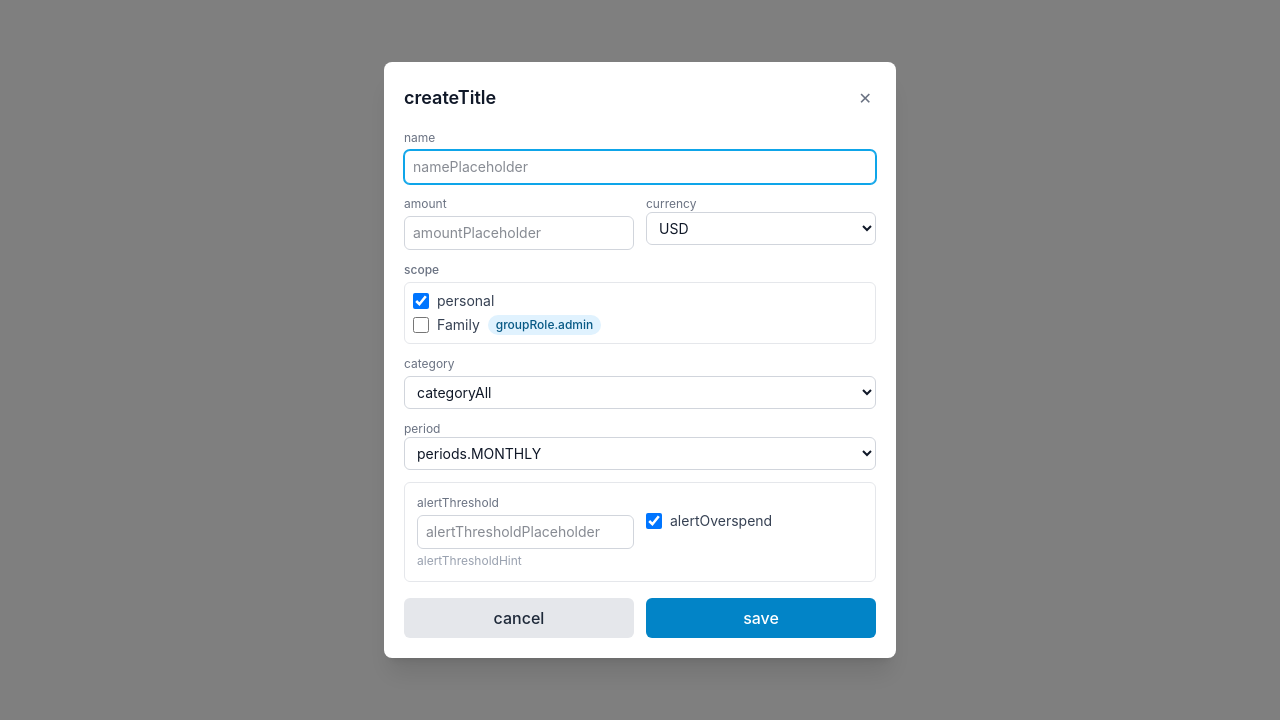
Test case: BudgetFormDialog › validation: name required
The width and height of the screenshot is (1280, 720).
Step 1. Type "10.00" into the field with test id "budget-form-amount" → (519, 233), box [404,216,634,250]
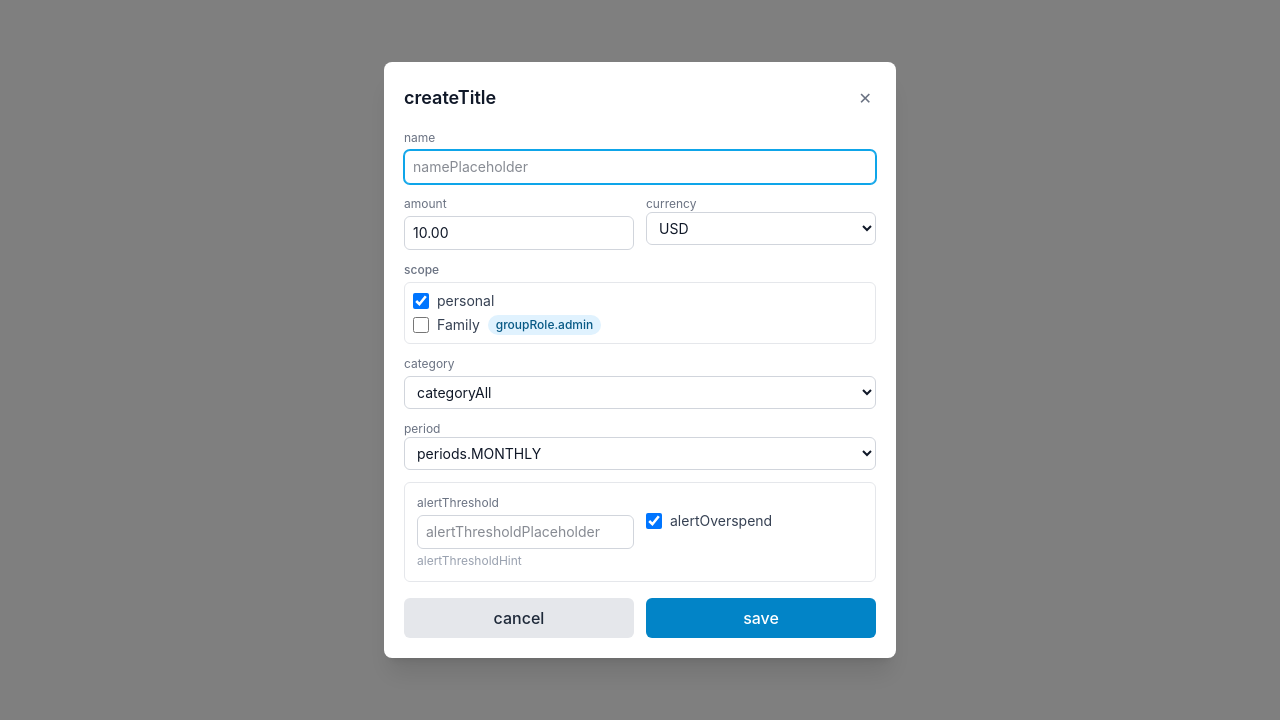
Step 2. Click the button with test id "budget-form-save" → (761, 618), box [646,598,876,638]
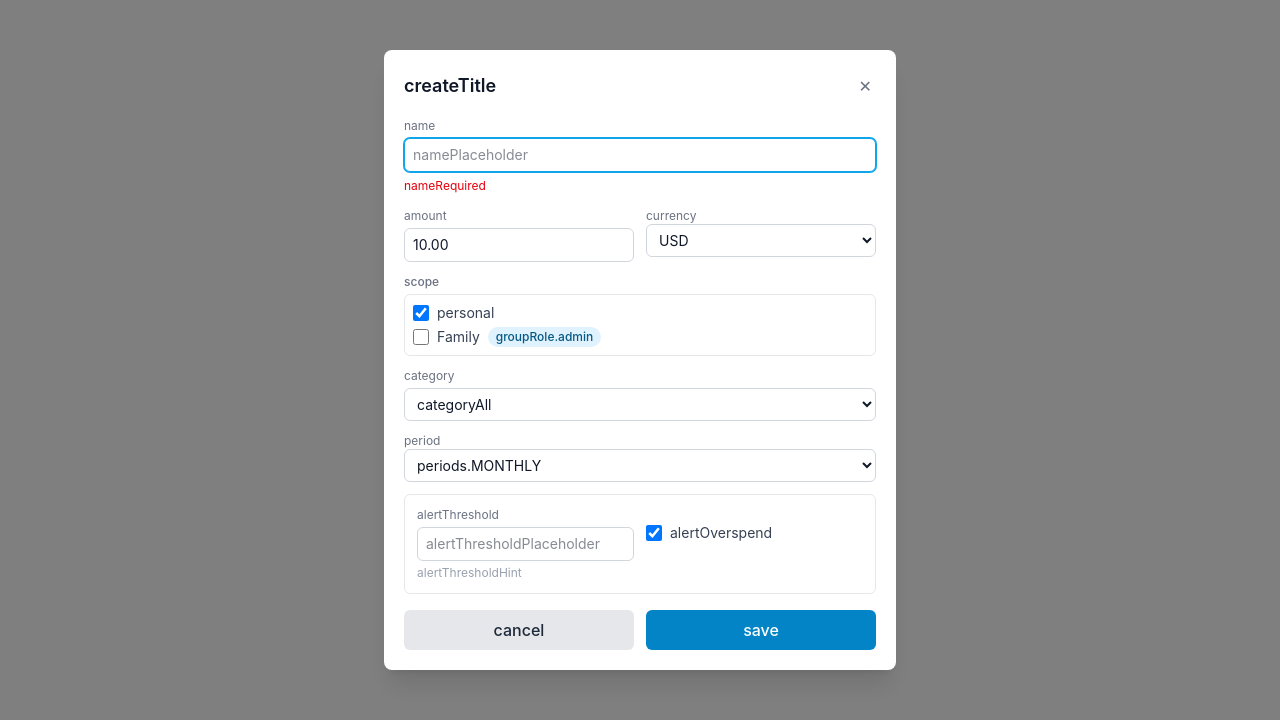
expect the text "nameRequired" is shown: met, box [404,178,486,193]
